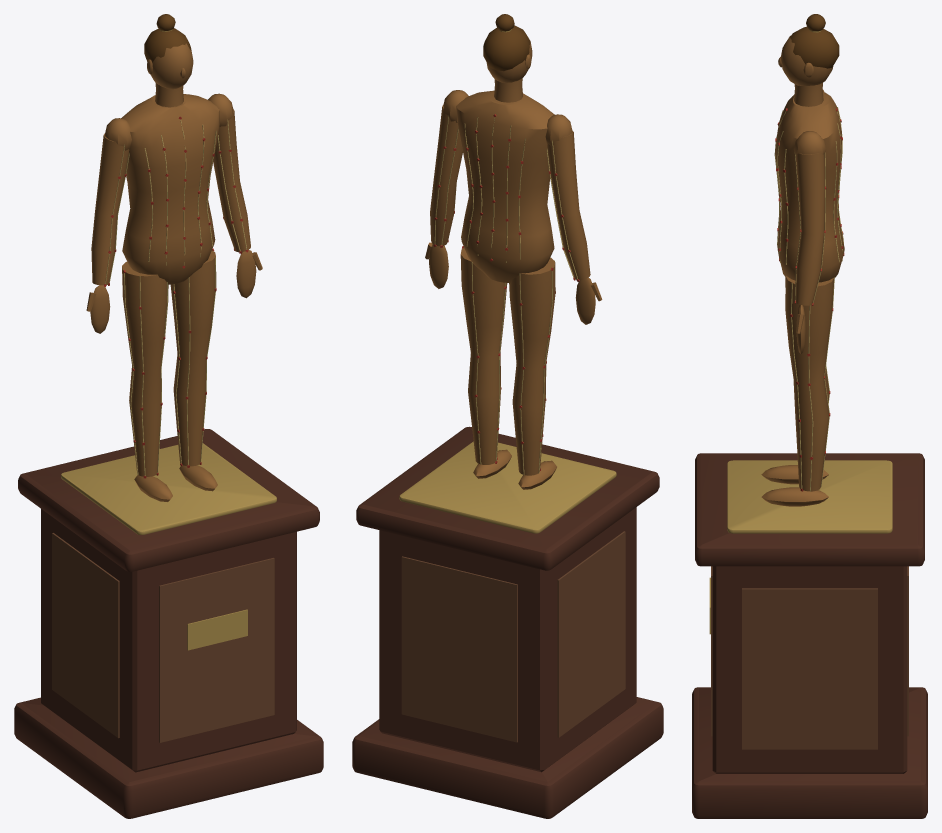
Rendered from acu-meridian-model.glb.
The picture shows the model from 3 angles, left to right: view 1: azimuth 30°, elevation 25°; view 2: azimuth 150°, elevation 25°; view 3: azimuth 270°, elevation 25°; orthographic projection. The views are drawn at different scales.
Parts seen in each view (by area): view 1: acu-meridian-model; view 2: acu-meridian-model; view 3: acu-meridian-model.
Boxes of the visible parts, x1,y1,x2,y2 form: acu-meridian-model: (14, 14, 323, 818); acu-meridian-model: (352, 14, 663, 818); acu-meridian-model: (692, 14, 927, 818).
Size of the model in its own units: 0.4 by 1.42 by 0.4.
